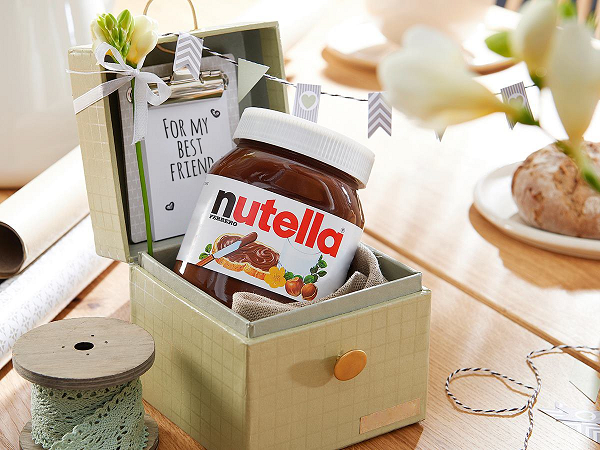nutella: (173, 106, 376, 308)
